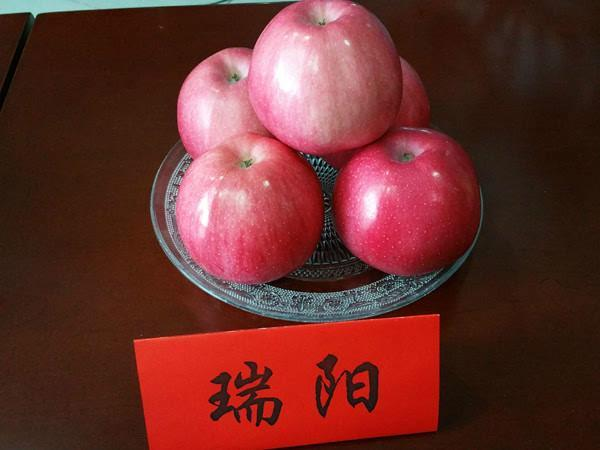apple: (248, 1, 403, 155), (329, 129, 481, 281), (171, 135, 322, 285), (321, 55, 432, 171), (174, 47, 277, 159)
